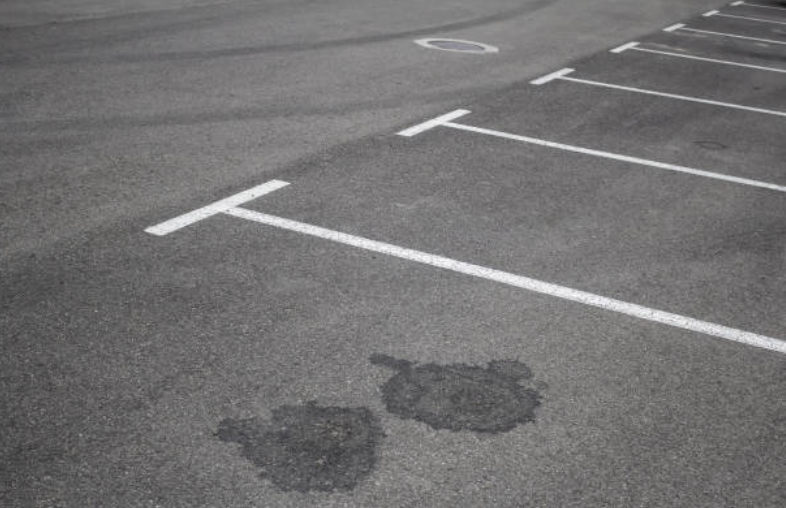oil: (108, 200, 196, 249), (185, 173, 274, 219)
